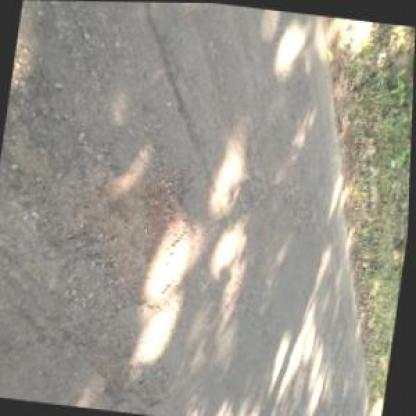pothole: (29, 144, 203, 311)
